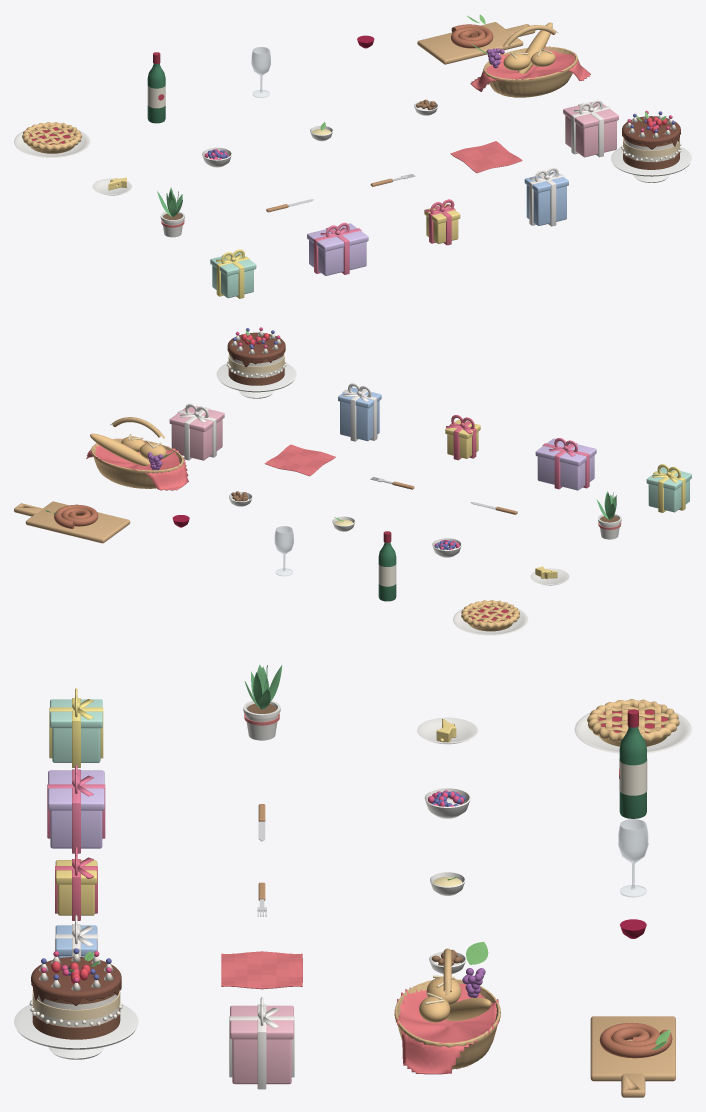
File: food.glb
3 views of the same model, one above another, from view 1: azimuth 30°, elevation 25°; view 2: azimuth 150°, elevation 25°; view 3: azimuth 270°, elevation 25° (orthographic). The views are drawn at different scales.
Visible parts, largest first — view 1: bread_basket, cake, sausage_board, present_lilac, present_pink, present_blue, pie, present_mint, present_gold, napkin, bottle, potted_plant (+3 smaller); view 2: bread_basket, cake, sausage_board, present_lilac, present_pink, pie, present_blue, present_mint, present_gold, napkin, bottle, potted_plant (+2 smaller); view 3: cake, bread_basket, sausage_board, present_pink, present_lilac, pie, present_mint, napkin, bottle, present_gold, potted_plant, glass (+4 smaller).
Part boxes in pixels (left/top/right/bottom): bread_basket: left=470, top=22, right=590, bottom=97; cake: left=611, top=110, right=691, bottom=182; sausage_board: left=417, top=14, right=535, bottom=64; present_lilac: left=307, top=222, right=368, bottom=275; present_pink: left=563, top=99, right=618, bottom=157; present_blue: left=524, top=167, right=568, bottom=226; pie: left=14, top=122, right=90, bottom=157; present_mint: left=210, top=249, right=256, bottom=298; present_gold: left=424, top=199, right=460, bottom=245; napkin: left=450, top=141, right=522, bottom=173; bottle: left=147, top=52, right=165, bottom=123; potted_plant: left=157, top=187, right=184, bottom=237; bread_basket: left=86, top=417, right=188, bottom=490; cake: left=216, top=327, right=296, bottom=398; sausage_board: left=14, top=501, right=130, bottom=543; present_lilac: left=535, top=438, right=596, bottom=490; present_pink: left=169, top=403, right=224, bottom=460; pie: left=453, top=600, right=528, bottom=635; present_blue: left=338, top=383, right=381, bottom=441; present_mint: left=646, top=464, right=691, bottom=512; present_gold: left=445, top=415, right=480, bottom=460; napkin: left=264, top=444, right=335, bottom=476; bottle: left=378, top=531, right=396, bottom=601; potted_plant: left=596, top=491, right=621, bottom=539; cake: left=14, top=948, right=138, bottom=1059; bread_basket: left=394, top=942, right=500, bottom=1074; sausage_board: left=590, top=1016, right=675, bottom=1097; present_pink: left=229, top=997, right=294, bottom=1089; present_lilac: left=47, top=765, right=105, bottom=853; pie: left=574, top=699, right=691, bottom=753; present_mint: left=49, top=688, right=103, bottom=767; napkin: left=221, top=951, right=302, bottom=989; bottle: left=619, top=709, right=647, bottom=818; present_gold: left=55, top=846, right=97, bottom=920; potted_plant: left=243, top=664, right=282, bottom=740; glass: left=618, top=819, right=648, bottom=897.
Size of the model in its own units: 2.45 by 0.393 by 1.83.
